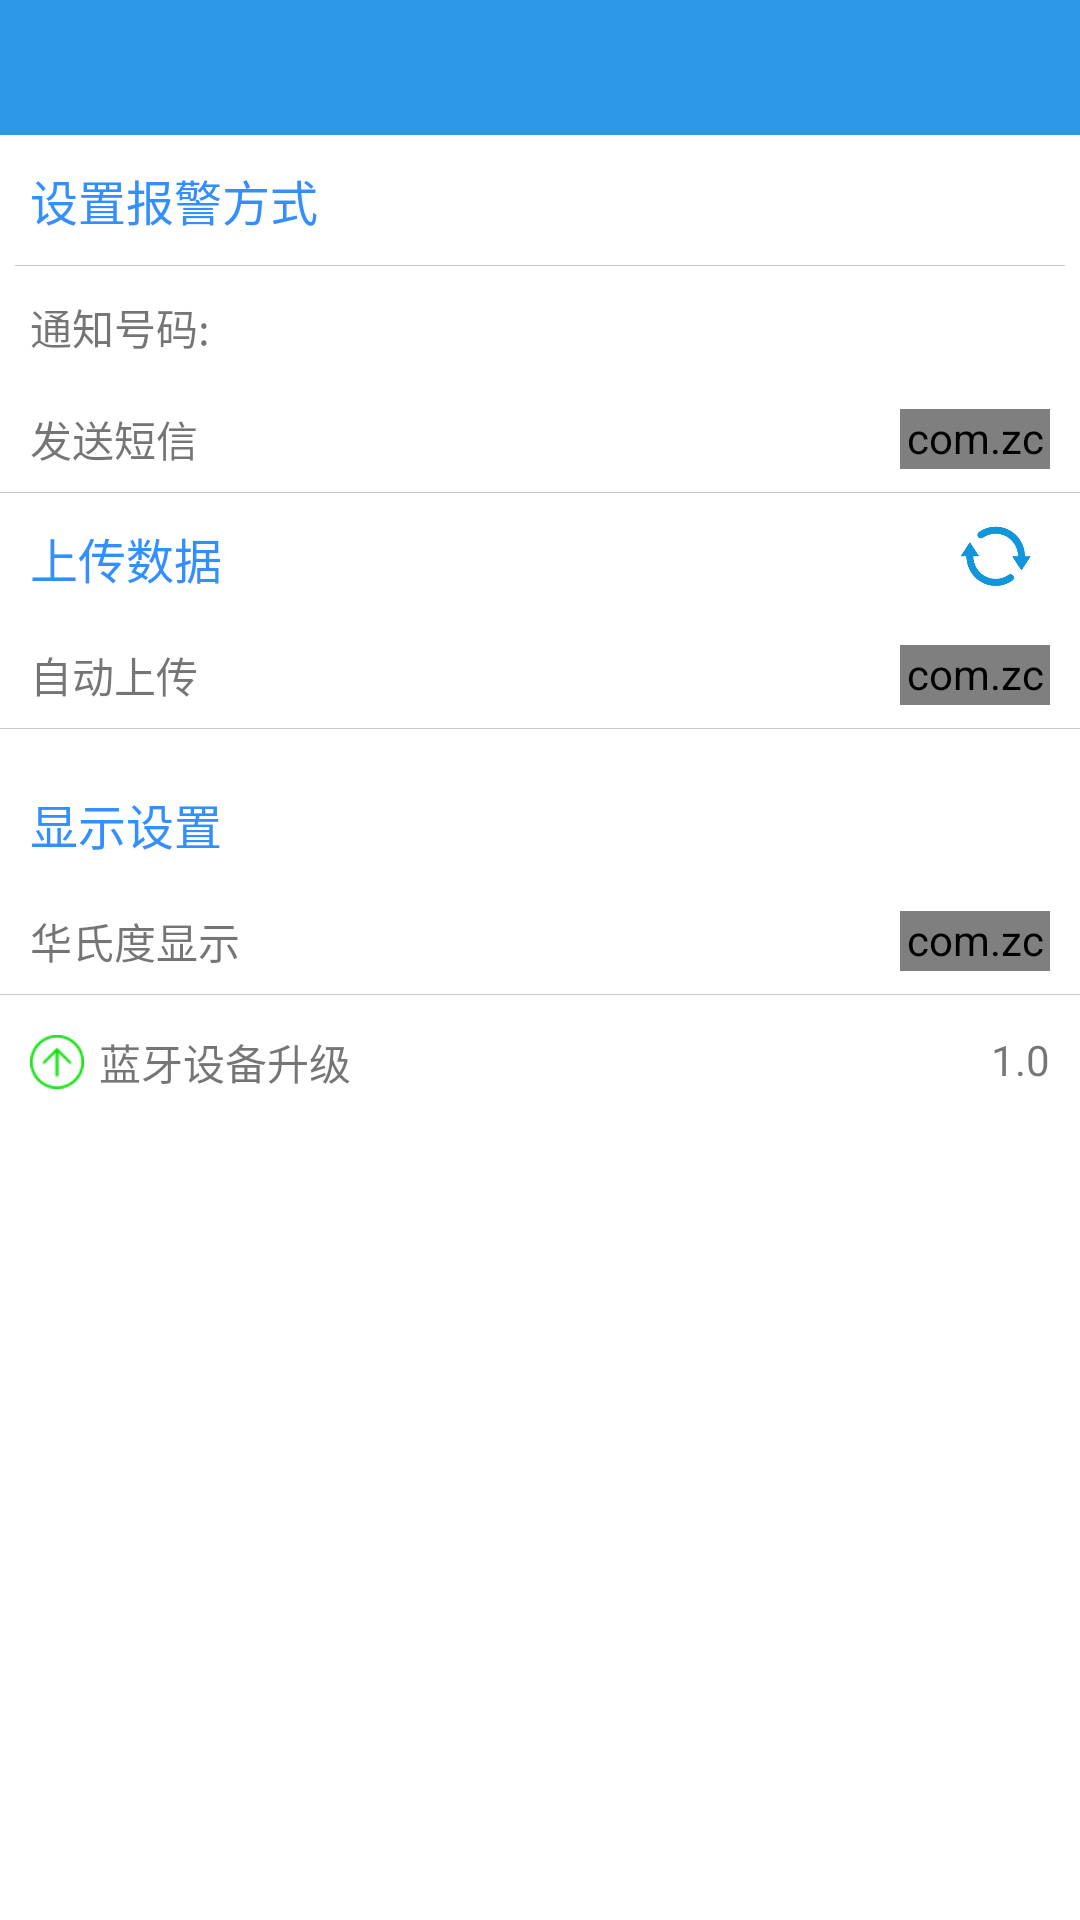

Where icons sit on this 1080px×1920px app screen, as (x1, y1, x2, y2):
check newversion personal center: (30, 1035, 84, 1089)
refresh: (961, 526, 1031, 586)
